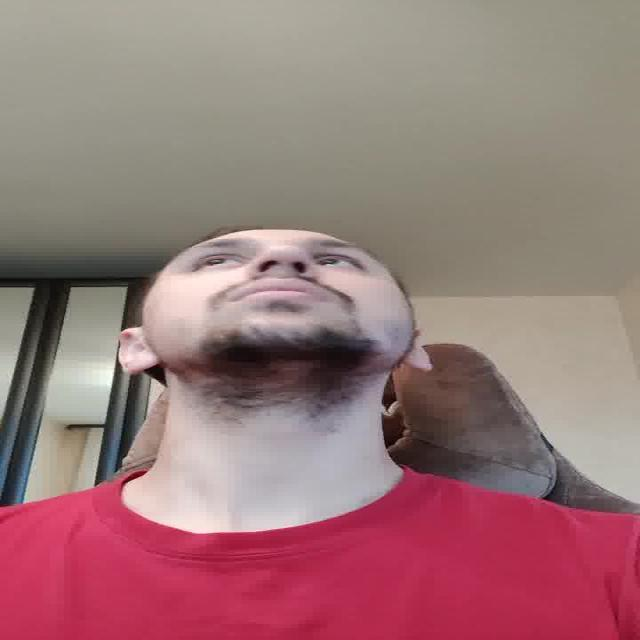earlobe: (121, 358, 162, 373), (402, 354, 435, 372)
eye: (189, 254, 242, 269), (316, 254, 361, 268)
nose: (248, 268, 316, 281)
wholeear: (117, 326, 164, 374), (402, 328, 432, 372)
